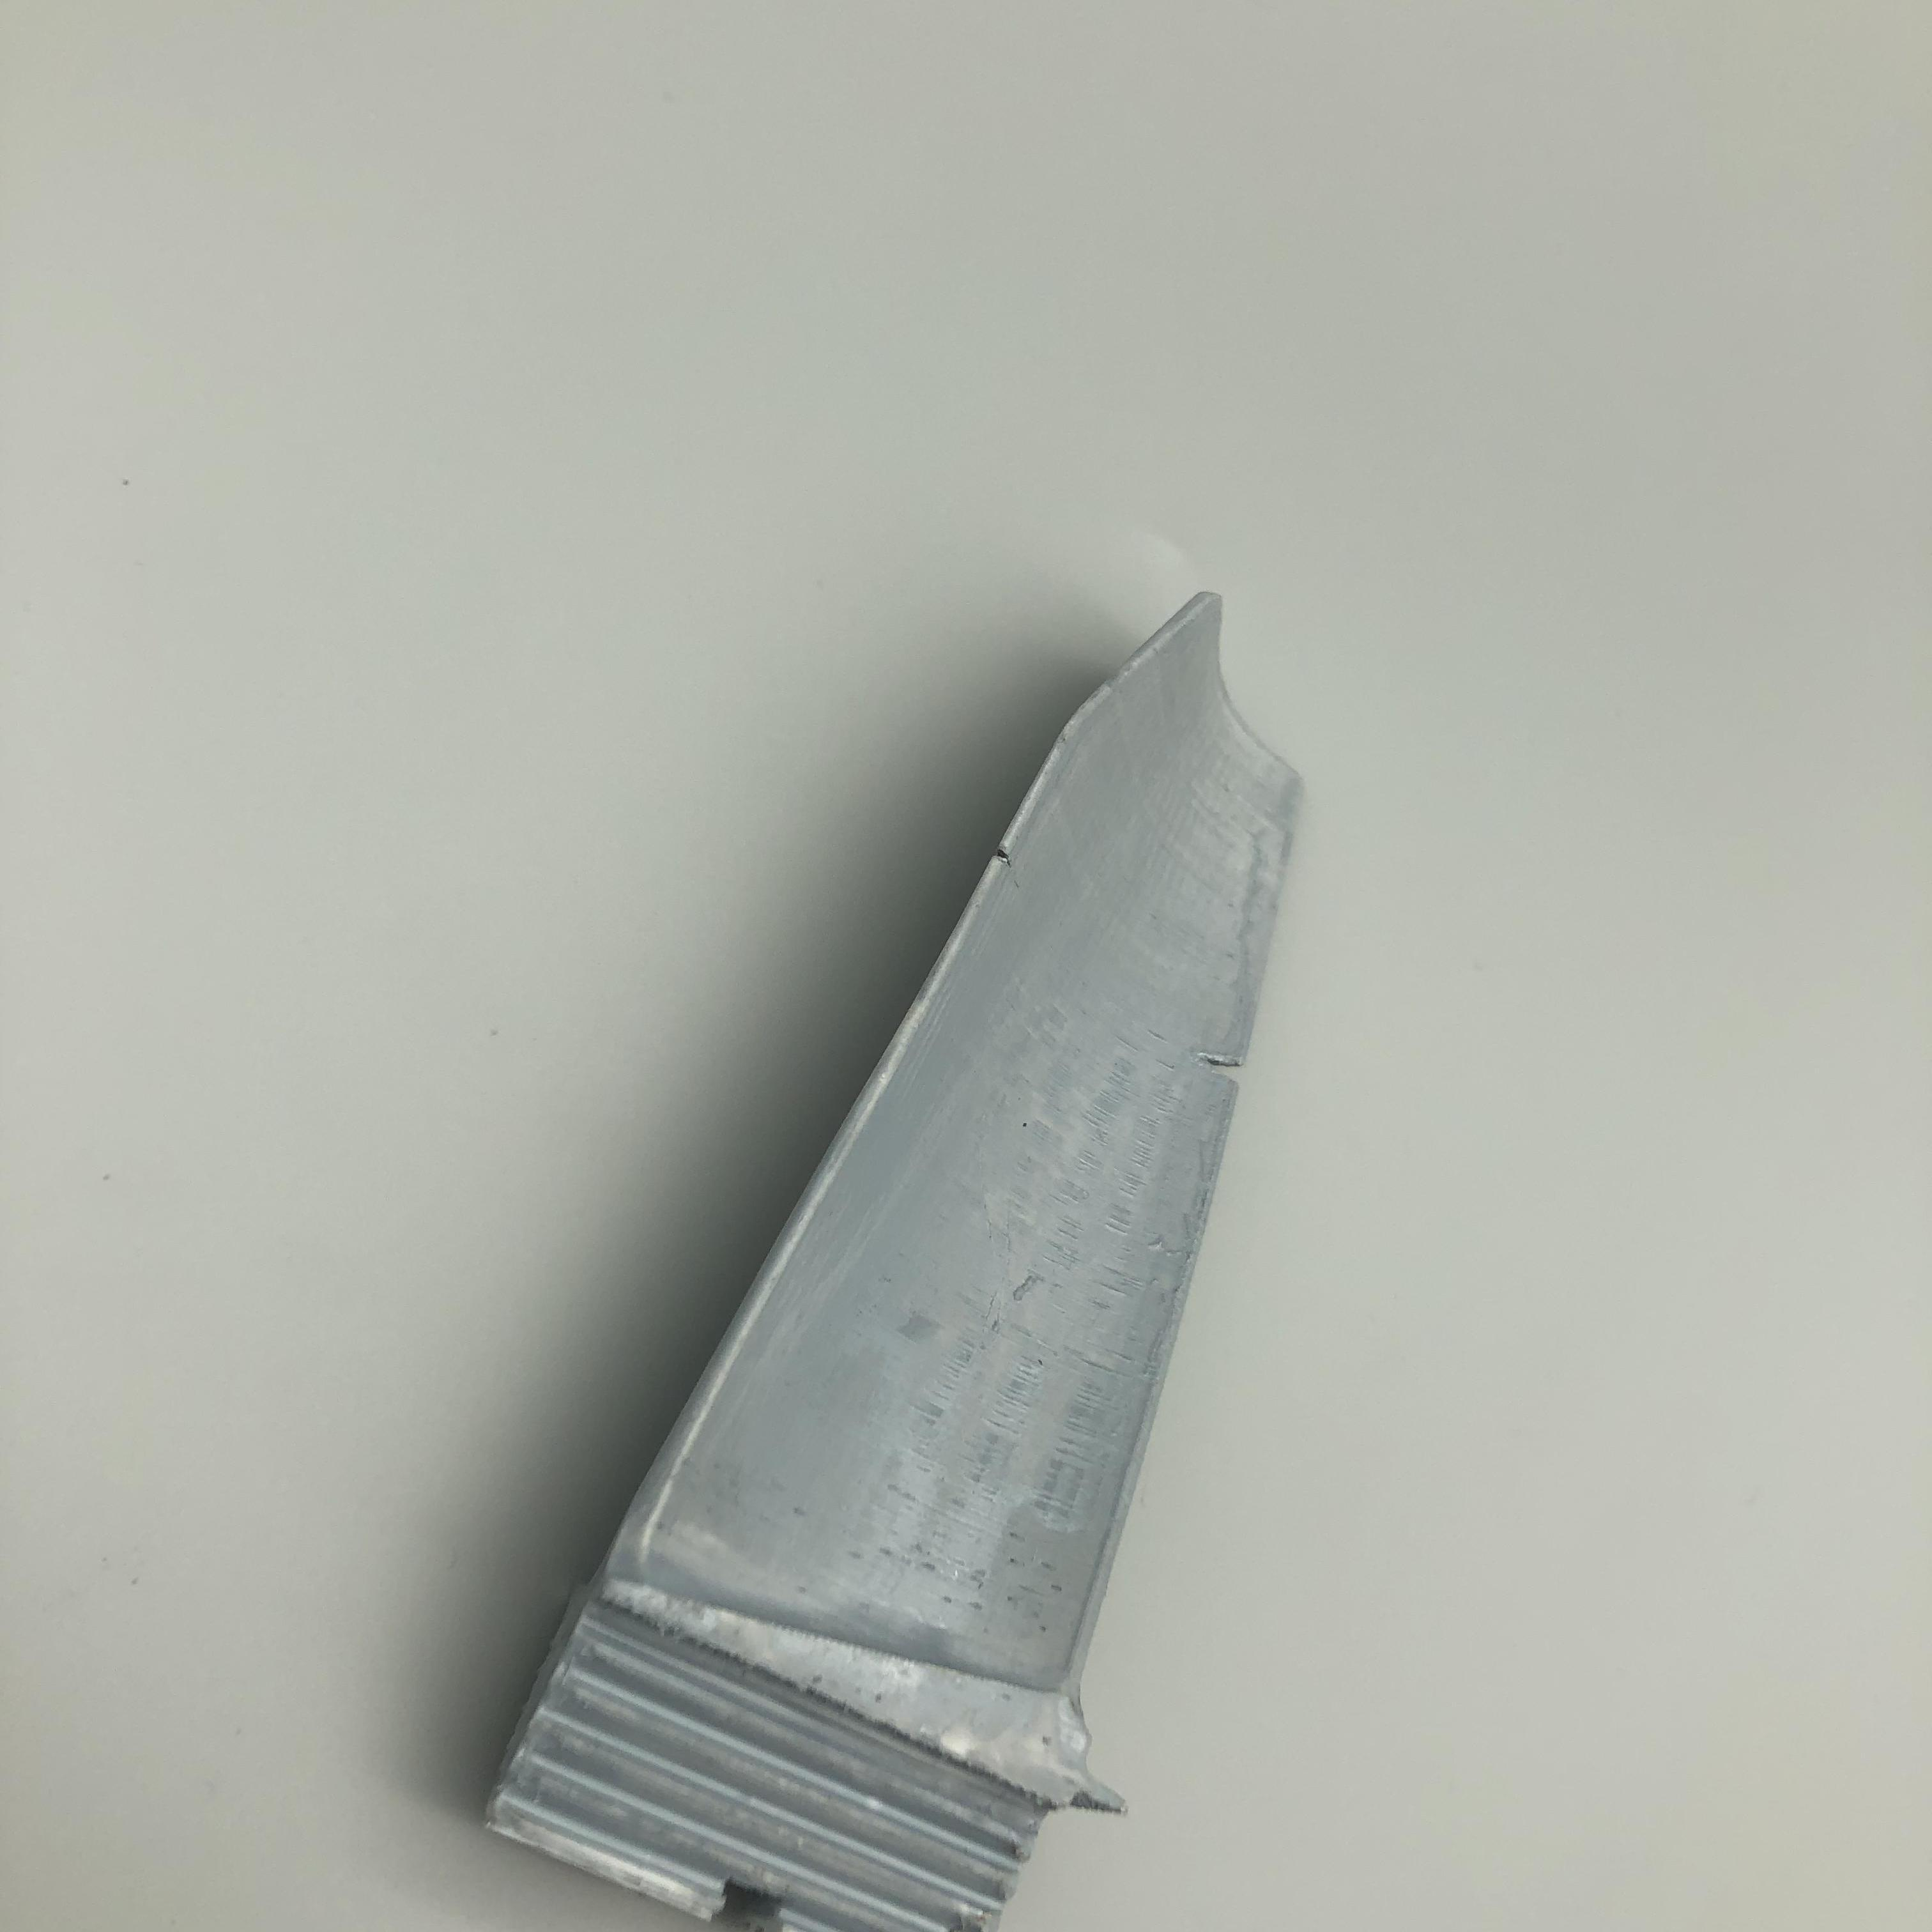groove: (1201, 1046, 1238, 1086), (996, 844, 1024, 870)
